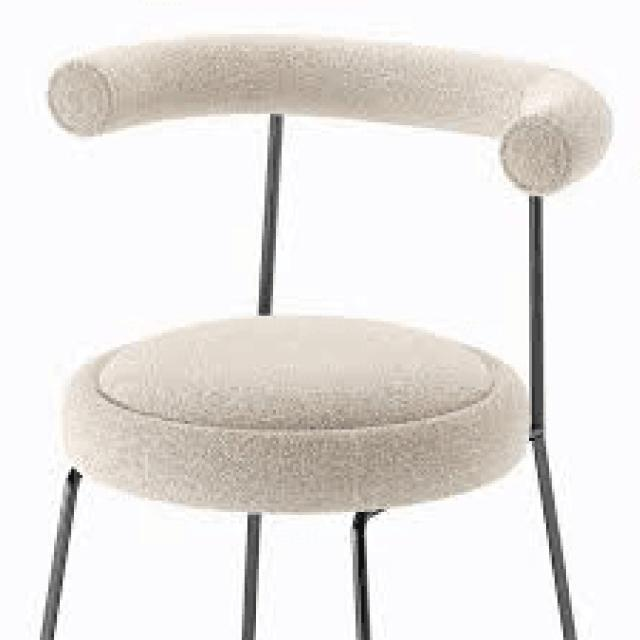chair: (33, 24, 614, 640), (2, 0, 612, 529)
